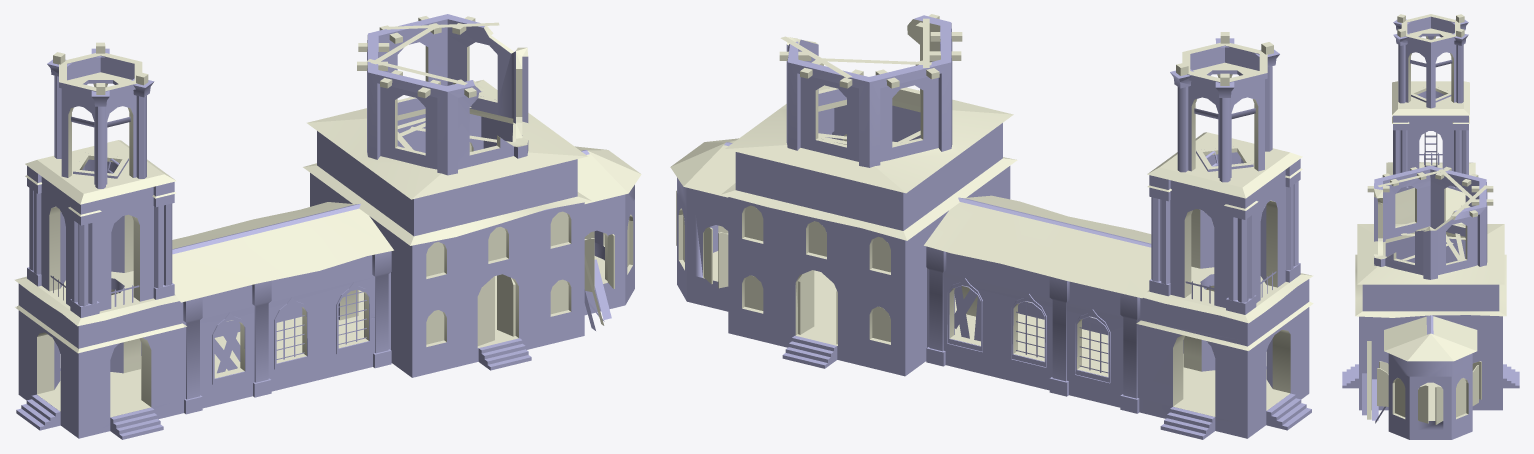
File: temple111.glb
3 views of the same model, side by side, from view 1: azimuth 30°, elevation 25°; view 2: azimuth 150°, elevation 25°; view 3: azimuth 270°, elevation 25° (orthographic). The views are drawn at different scales.
Visible parts, largest first — view 1: Hram; view 2: Hram; view 3: Hram.
Part boxes in pixels (<box>): Hram: <box>15,14,641,439</box>; Hram: <box>670,14,1313,439</box>; Hram: <box>1342,14,1519,439</box>.
Bounding box in the file's own units: 45.67 × 24.59 × 16.52.
